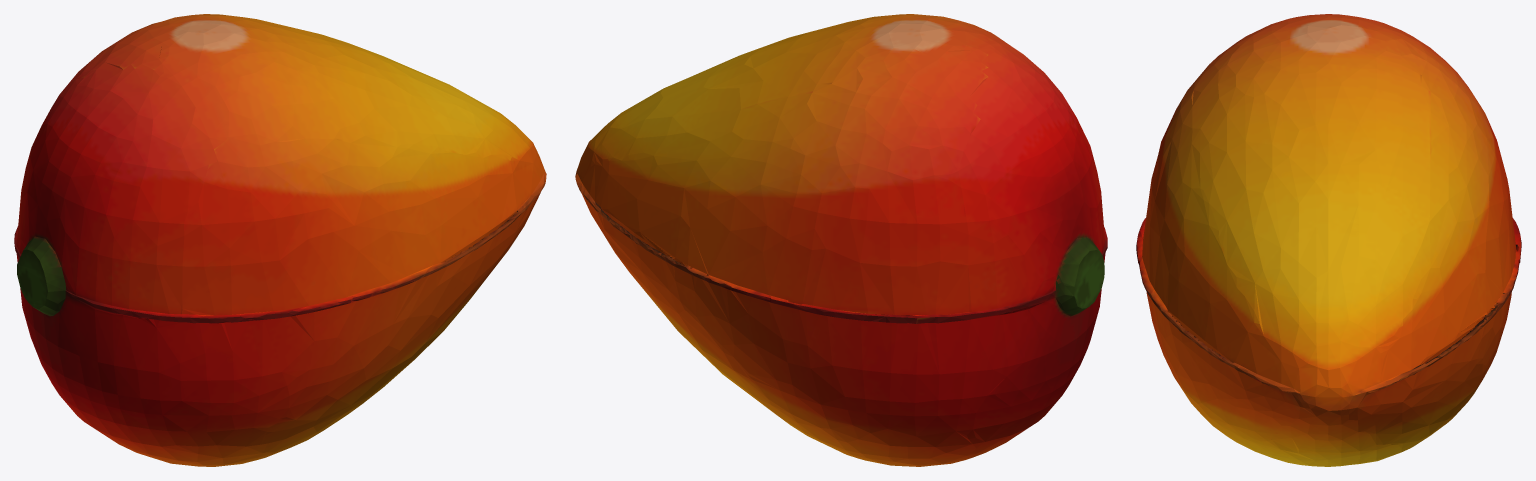
File: mango.glb
3 renders of one model, left to right at view 1: azimuth 30°, elevation 25°; view 2: azimuth 150°, elevation 25°; view 3: azimuth 270°, elevation 25°, orthographic.
Parts seen in each view (by area): view 1: world; view 2: world; view 3: world.
Boxes of the visible parts, x1,y1,x2,y2 form: world: (14,14,546,466); world: (575,14,1107,466); world: (1136,14,1521,466).
Bounding box in the file's own units: 0.9914 × 0.7884 × 0.6656.
Materials: 1 (1 with a texture image).
